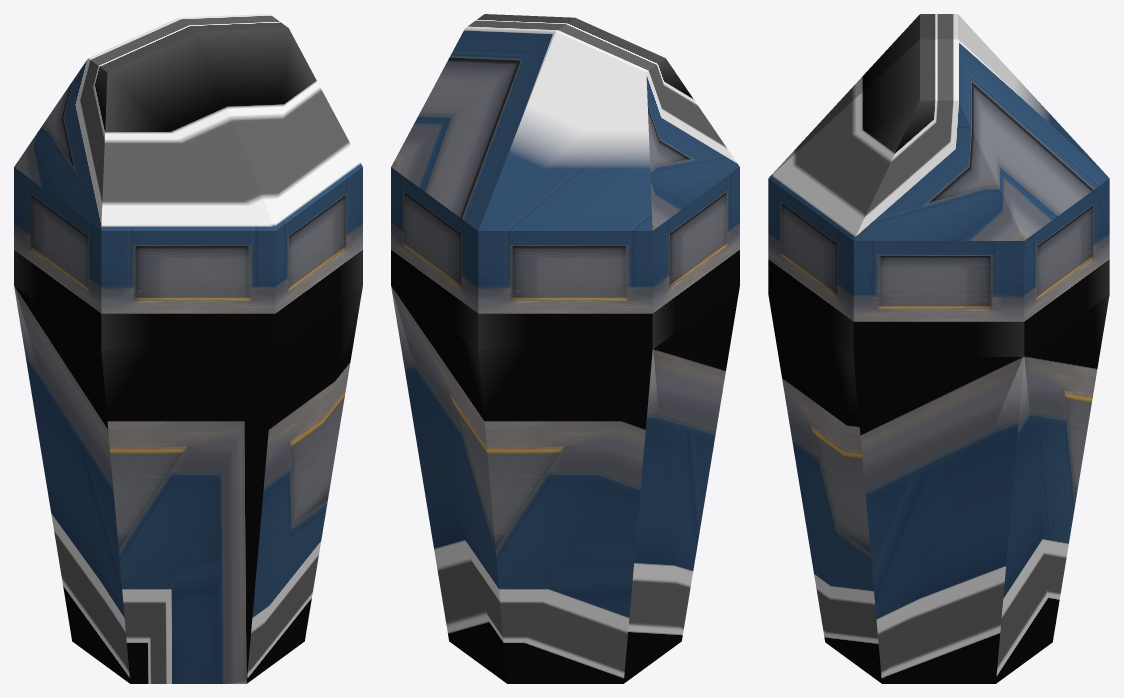
Rendered from resource_node_collider.glb.
3 views of the same model, side by side, from view 1: azimuth 30°, elevation 25°; view 2: azimuth 150°, elevation 25°; view 3: azimuth 270°, elevation 25° (orthographic). The views are drawn at different scales.
Visible parts, largest first — view 1: Cylinder.001_Cylinder.002; view 2: Cylinder.001_Cylinder.002; view 3: Cylinder.001_Cylinder.002.
Part boxes in pixels (x1,y1,x2,y2): Cylinder.001_Cylinder.002: [14, 14, 362, 683]; Cylinder.001_Cylinder.002: [391, 14, 739, 683]; Cylinder.001_Cylinder.002: [768, 14, 1109, 683].
Size of the model in its own units: 15.59 by 35.1 by 18.
1 material, 1 textured.
